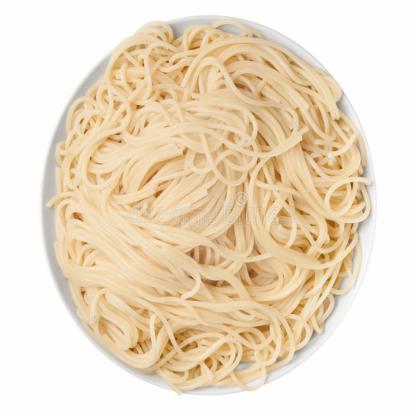Noodles: (44, 17, 373, 395)
